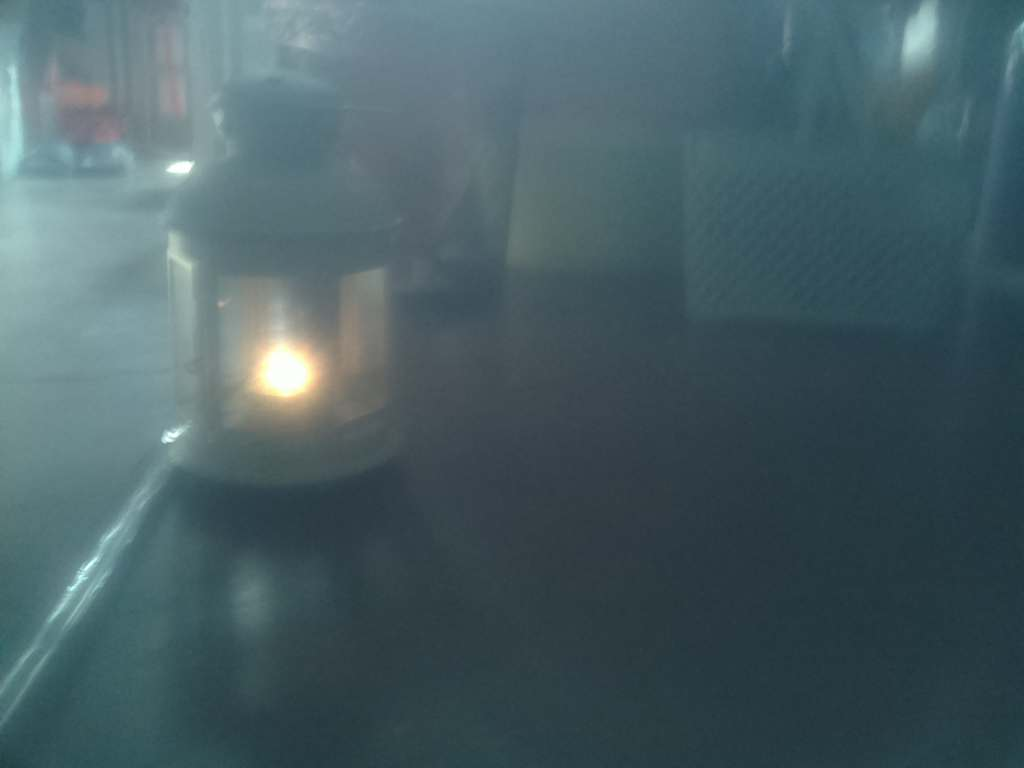fire: (234, 330, 338, 417)
